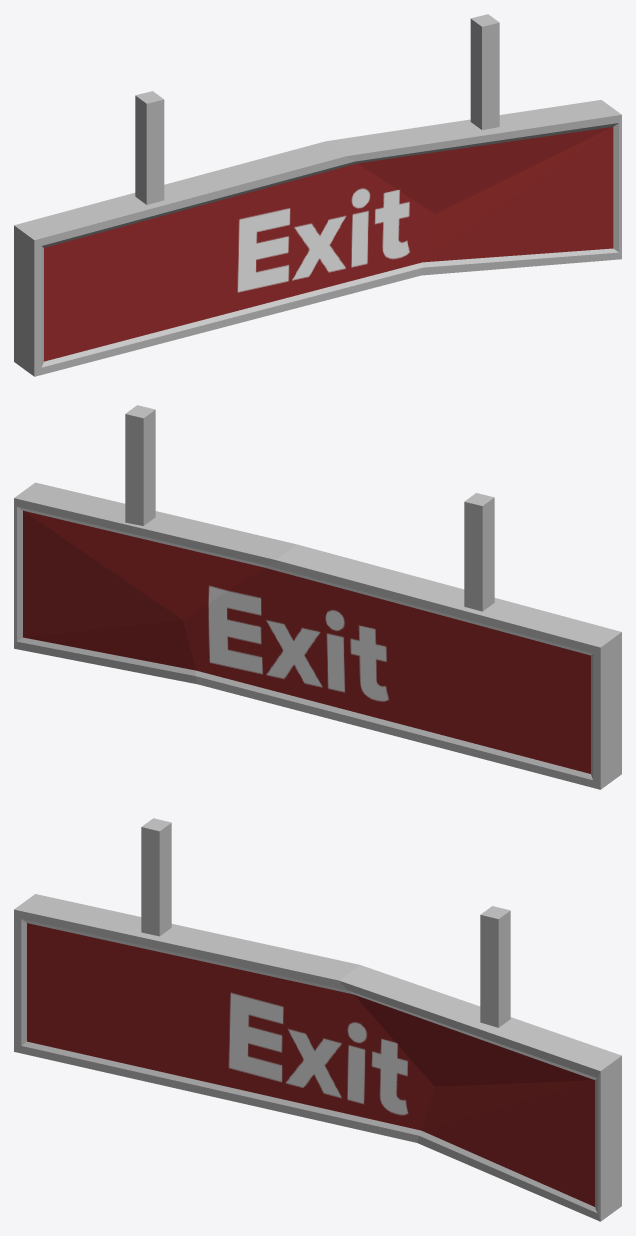
The model's file is SM_Direction_Indicator_04_C.fbx.
3 views of the same model, one above another, from view 1: azimuth 30°, elevation 25°; view 2: azimuth 150°, elevation 25°; view 3: azimuth 330°, elevation 25° (orthographic). The views are drawn at different scales.
Visible parts, largest first — view 1: SM_Direction_Indicator_04_C; view 2: SM_Direction_Indicator_04_C; view 3: SM_Direction_Indicator_04_C.
Part boxes in pixels (x1,y1,x2,y2): SM_Direction_Indicator_04_C: (14, 14, 621, 376); SM_Direction_Indicator_04_C: (14, 405, 621, 789); SM_Direction_Indicator_04_C: (14, 818, 621, 1221).
Size of the model in its own units: 59.14 by 25.01 by 5.83.
